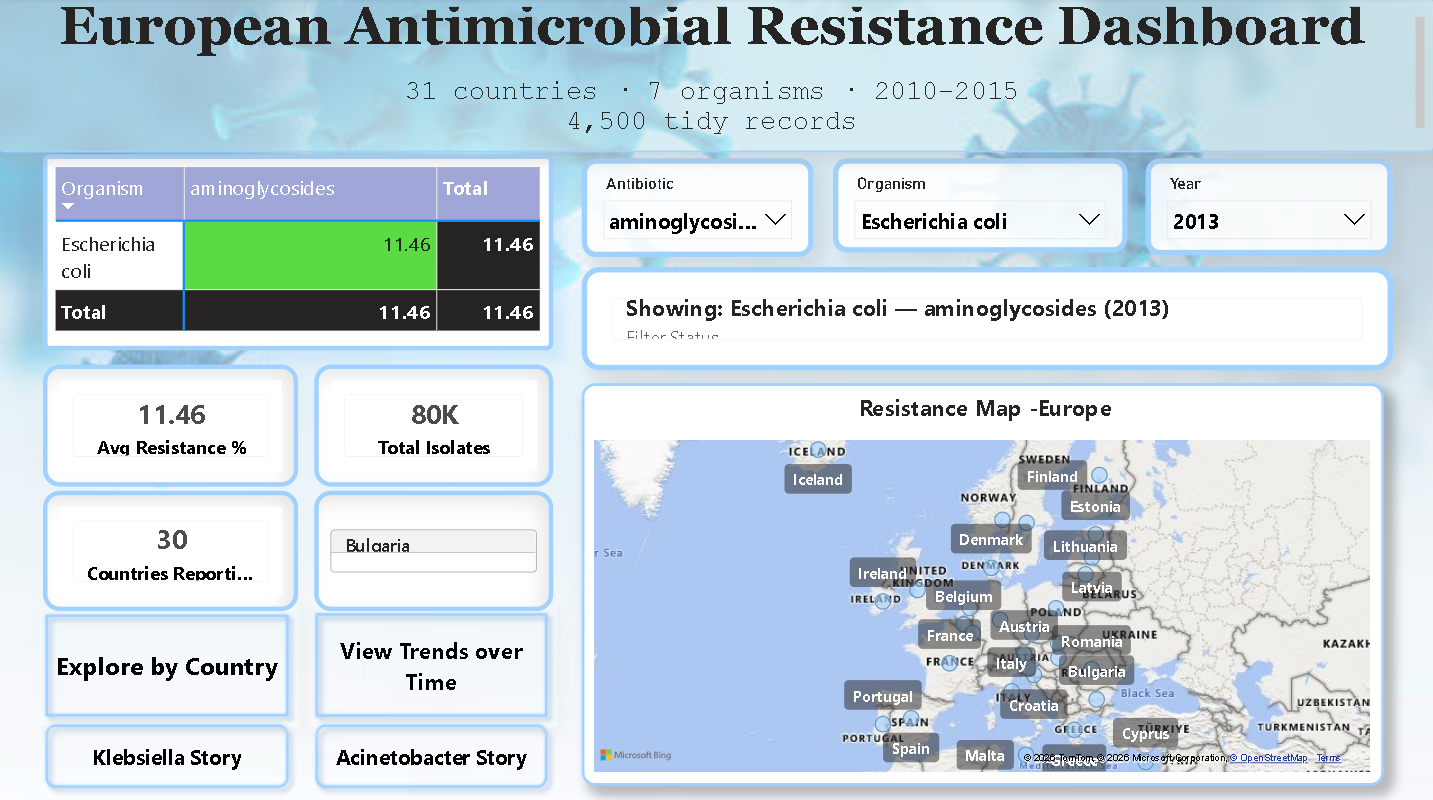

What the dashboard file says about the page in this screenshot:
{"tool":"powerbi","page":{"name":"Page 1","canvas":[1280,720],"ordinal":0},"visuals":[{"type":"map","title":"Resistance Map -Europe","fields":{"Category":["amr_consolidated.Country"]},"box":[518.8,343.8,715.6,346.9],"z":0},{"type":"slicer","fields":{"Values":["amr_consolidated.Organism"]},"box":[744,144,262,84],"z":1000},{"type":"slicer","fields":{"Values":["amr_consolidated.Antibiotic"]},"box":[520,144,206,88],"z":2000},{"type":"slicer","fields":{"Values":["amr_consolidated.Year"]},"box":[1022,144,220,86],"z":3000},{"type":"cardVisual","fields":{"Data":["amr_consolidated.Filter Status"]},"box":[520,240,722,92],"z":4000},{"type":"pivotTable","fields":{"Rows":["amr_consolidated.Organism"],"Columns":["amr_consolidated.Antibiotic"],"Values":["amr_consolidated.Avg Resistance %"]},"box":[40,140,454.3,174.3],"z":5000},{"type":"actionButton","box":[32.9,638.6,234.3,74.3],"z":6000},{"type":"actionButton","box":[274.3,638.6,224.3,74.3],"z":7000},{"type":"actionButton","box":[274.3,540,224.3,110],"z":8000},{"type":"actionButton","box":[32.9,541.4,234.3,108.6],"z":9000},{"type":"textbox","box":[0,0,1280,138],"z":10000},{"type":"cardVisual","fields":{"Data":["amr_consolidated.Avg Resistance %"]},"box":[40,327.1,227.1,108.6],"z":12000},{"type":"cardVisual","fields":{"Data":["amr_consolidated.Total Isolates"]},"box":[281.4,327.1,212.9,108.6],"z":13000},{"type":"cardVisual","fields":{"Data":["amr_consolidated.Countries Reporting"]},"box":[40,440,227.1,107.1],"z":14000},{"type":"cardVisual","fields":{"Rows":["amr_consolidated.Country"]},"box":[281.4,438.6,212.9,107.1],"z":15000}]}

Visuals, with their boxes in screenshot pixels (x1, y1, x2, y2), scaled from the page's 1280x720 canvas onto the 1433x800 screenshot:
"Resistance Map -Europe" map: [581, 382, 1382, 767]
slicer - amr_consolidated.Organism: [833, 160, 1126, 253]
slicer - amr_consolidated.Antibiotic: [582, 160, 813, 258]
slicer - amr_consolidated.Year: [1144, 160, 1390, 256]
cardVisual - amr_consolidated.Filter Status: [582, 267, 1390, 369]
pivotTable - amr_consolidated.Organism x amr_consolidated.Antibiotic: [45, 156, 553, 349]
actionButton: [37, 710, 299, 792]
actionButton: [307, 710, 558, 792]
actionButton: [307, 600, 558, 722]
actionButton: [37, 602, 299, 722]
textbox: [0, 0, 1432, 153]
cardVisual - amr_consolidated.Avg Resistance %: [45, 363, 299, 484]
cardVisual - amr_consolidated.Total Isolates: [315, 363, 553, 484]
cardVisual - amr_consolidated.Countries Reporting: [45, 489, 299, 608]
cardVisual - amr_consolidated.Country: [315, 487, 553, 606]
